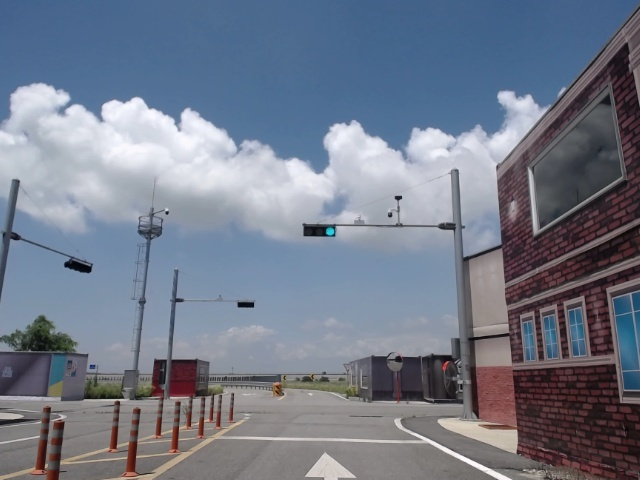green_3: (305, 225, 335, 236)
